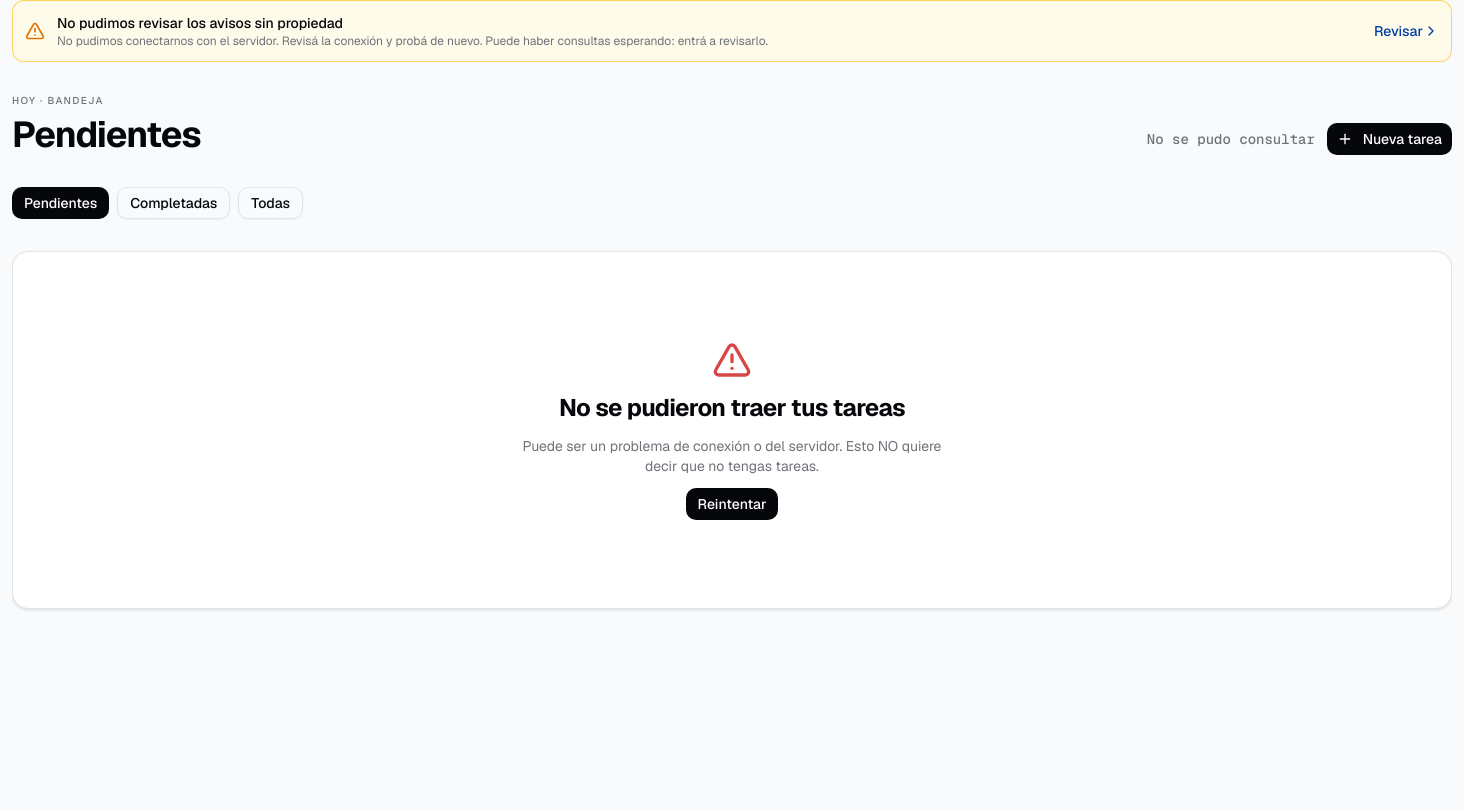
it: /tasks — D11: un fallo al listar NO es "Todo al día" › "Reintentar" vuelve a pedir, y si esta vez anda, se ven las tareas
Expected: the heading "No se pudieron traer tus tareas" is shown, [559,392,905,424]
Click the button "Reintentar".
click(732, 504)  # box [686,488,778,520]
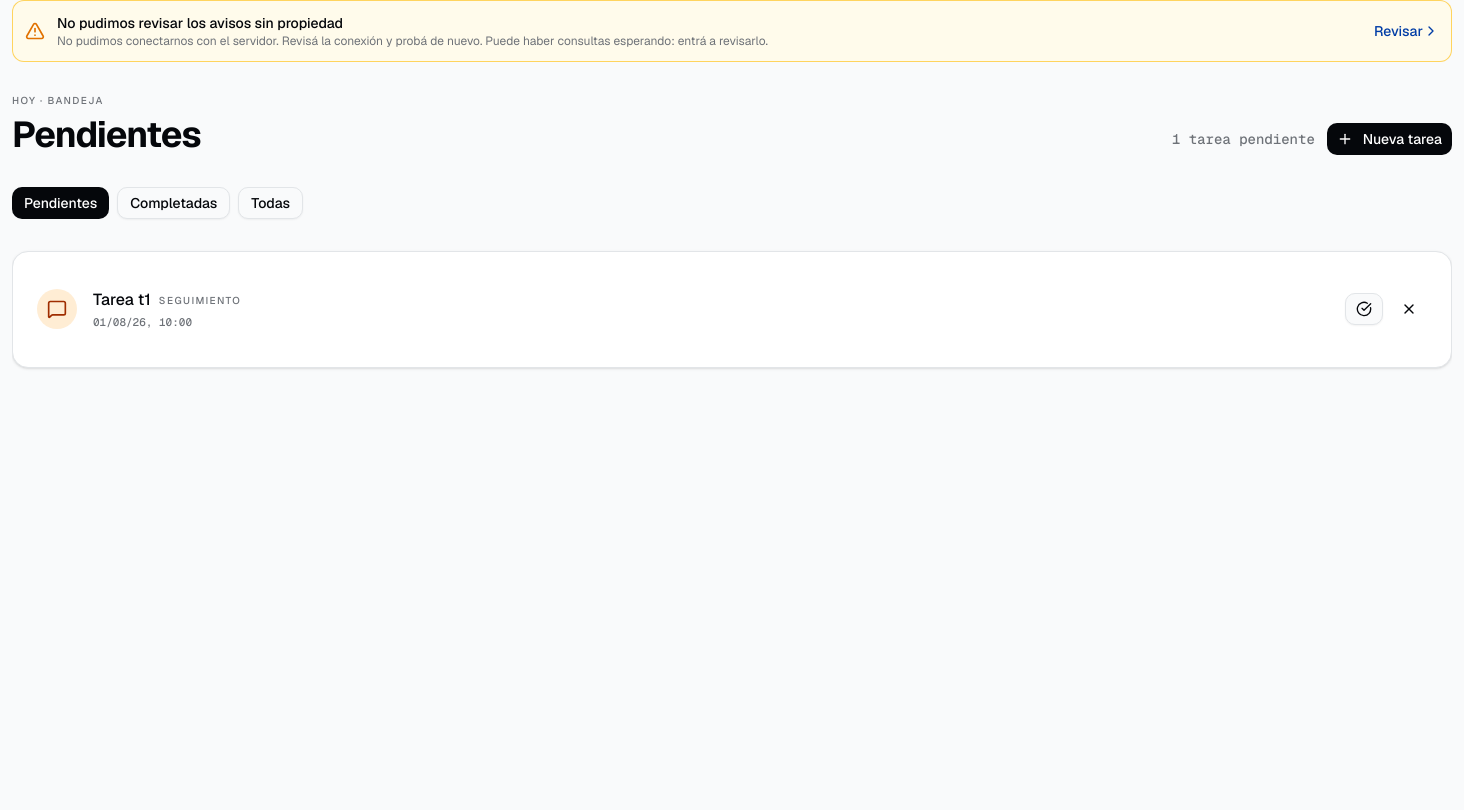
Expected: the text "Tarea t1" is shown, [93,288,151,312]
Expected: the heading "No se pudieron traer tus tareas" is gone
